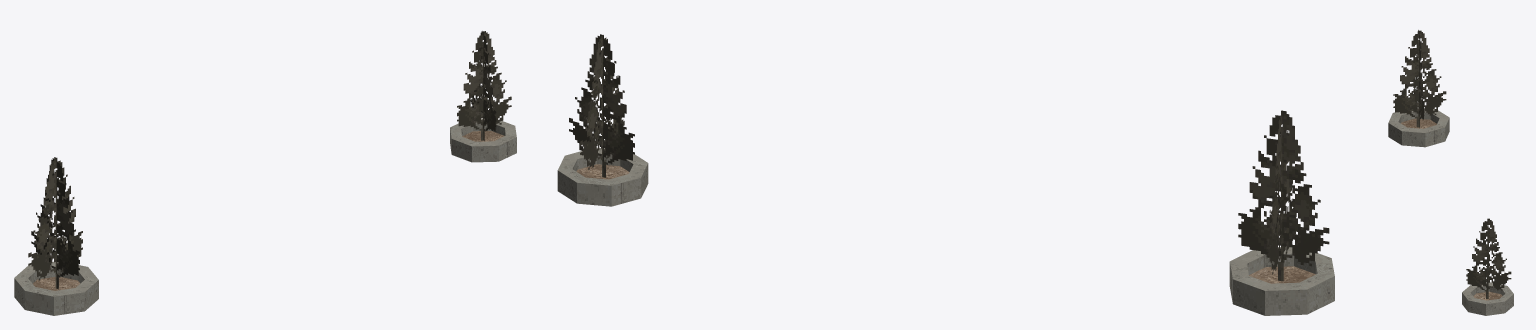
The model's file is procgen-procpain-tree-park-pine-large-x0zm3.obj.
The picture shows the model from 3 angles, left to right: view 1: azimuth 30°, elevation 25°; view 2: azimuth 150°, elevation 25°; view 3: azimuth 270°, elevation 25°; orthographic projection. The views are drawn at different scales.
Bounding box in the file's own units: 46.07 × 11.02 × 13.77.
